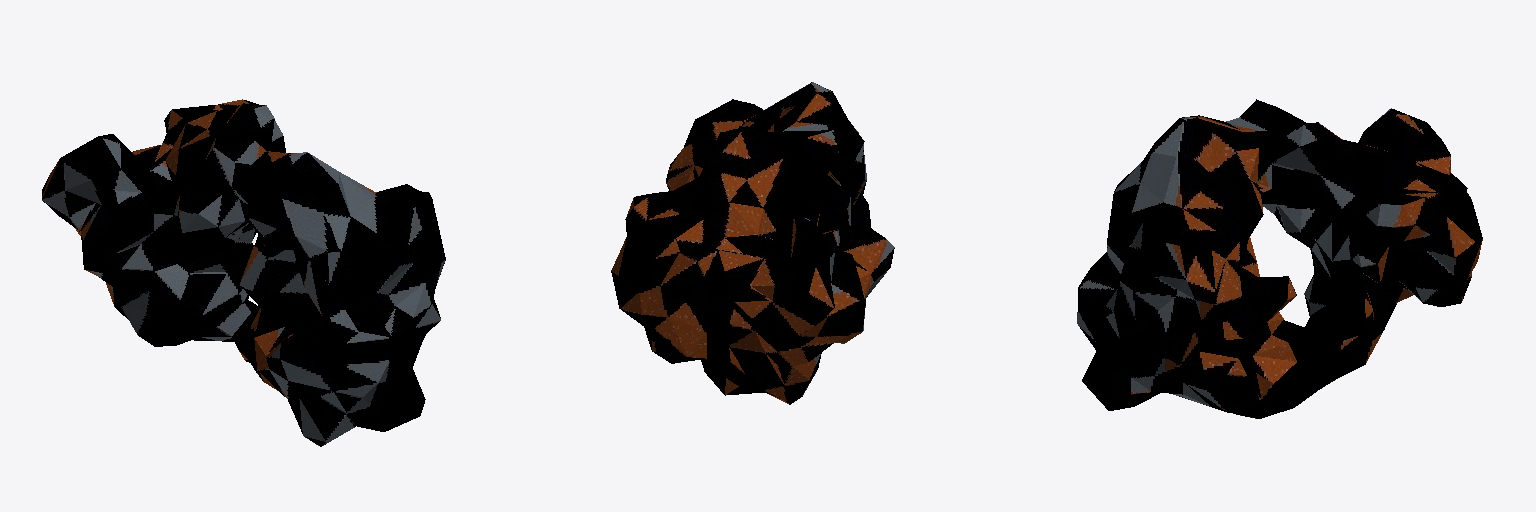
The picture shows the model from 3 angles: view 1: azimuth 30°, elevation 25°; view 2: azimuth 150°, elevation 25°; view 3: azimuth 270°, elevation 25°; orthographic projection.
Visible parts, largest first — view 1: CoarseMS_1sm3; view 2: CoarseMS_1sm3; view 3: CoarseMS_1sm3.
Boxes of the visible parts, box(x1,y1,x2,y2) form: CoarseMS_1sm3: box(42, 99, 445, 446); CoarseMS_1sm3: box(611, 82, 894, 404); CoarseMS_1sm3: box(1077, 99, 1482, 418).
Bounding box in the file's own units: 0.0557 × 0.0522 × 0.0696.
1 materials, 1 textured.